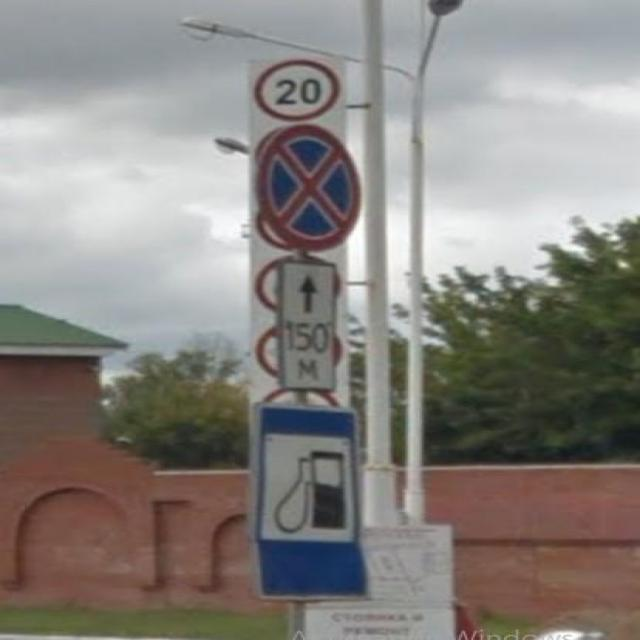Ograniczenie predkosci do 20: (255, 57, 342, 121)
